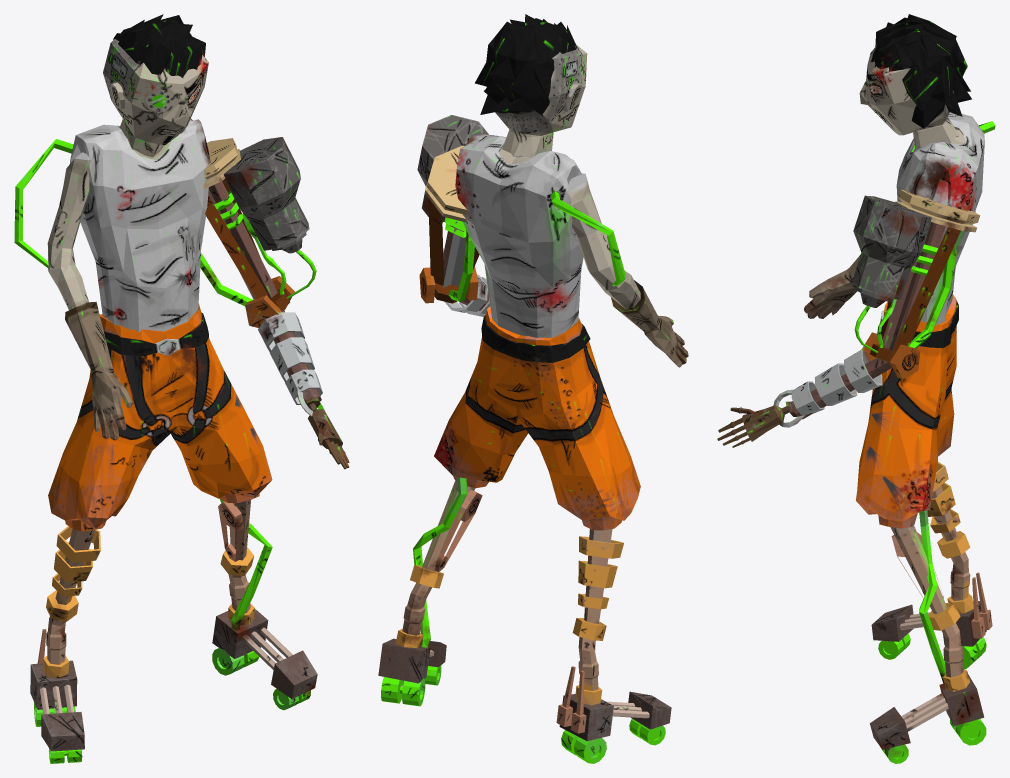
Rendered from CyborgFINALAnimation_000038.obj.
3 renders of one model, left to right at view 1: azimuth 30°, elevation 25°; view 2: azimuth 150°, elevation 25°; view 3: azimuth 270°, elevation 25°, orthographic. The views are drawn at different scales.
Visible parts, largest first — view 1: CyborgMesh_Cube.002; view 2: CyborgMesh_Cube.002; view 3: CyborgMesh_Cube.002.
Part boxes in pixels (left/top/right/bottom): CyborgMesh_Cube.002: left=14, top=14, right=349, bottom=763; CyborgMesh_Cube.002: left=378, top=14, right=688, bottom=763; CyborgMesh_Cube.002: left=717, top=14, right=995, bottom=763.
Size of the model in its own units: 3.75 by 9.67 by 3.57.
